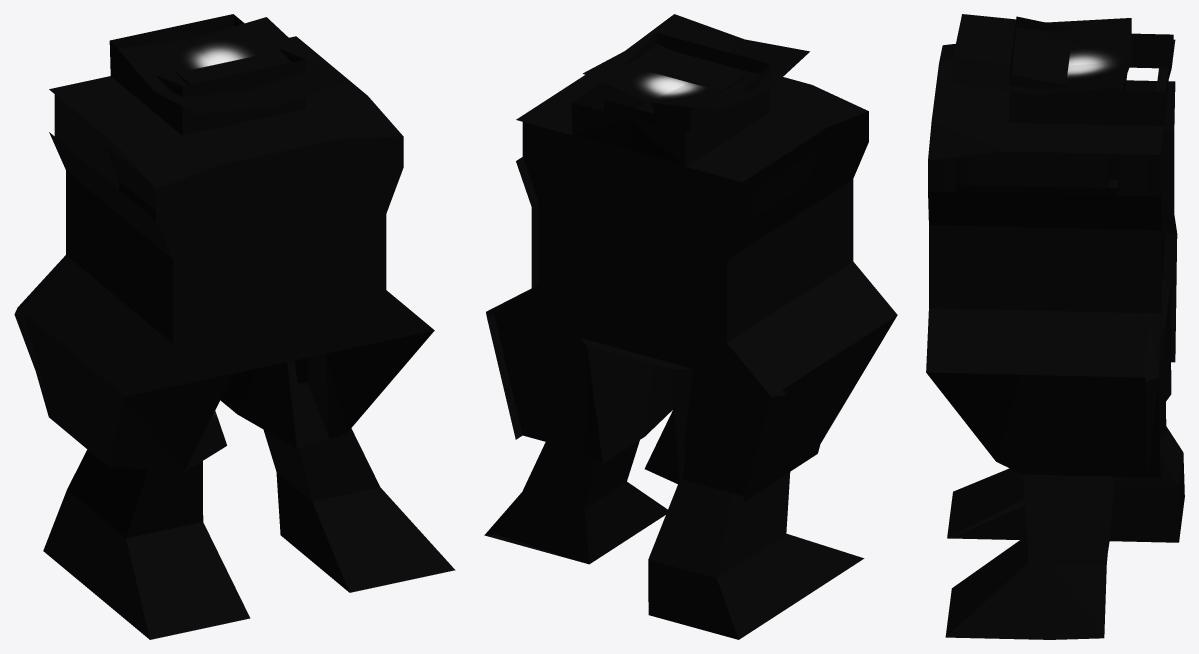
Rendered from float_Body.obj.
The picture shows the model from 3 angles, left to right: view 1: azimuth 30°, elevation 25°; view 2: azimuth 150°, elevation 25°; view 3: azimuth 270°, elevation 25°; orthographic projection. The views are drawn at different scales.
Parts seen in each view (by area): view 1: 立方体.003; view 2: 立方体.003; view 3: 立方体.003.
Part boxes in pixels (<box>): 立方体.003: <box>14,14,455,639</box>; 立方体.003: <box>484,14,897,639</box>; 立方体.003: <box>926,14,1184,639</box>.
Bounding box in the file's own units: 0.8262 × 1.19 × 0.5498.
Materials: 1 (1 with a texture image).
